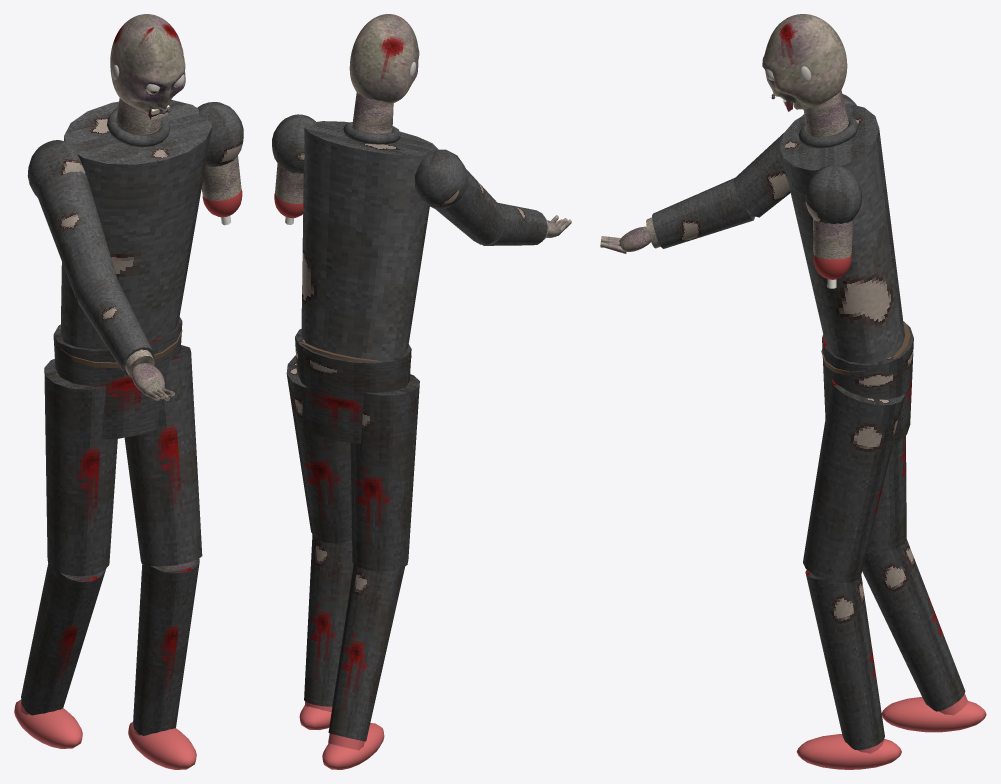
File: Zombie_024.glb
3 renders of one model, left to right at view 1: azimuth 30°, elevation 25°; view 2: azimuth 150°, elevation 25°; view 3: azimuth 270°, elevation 25°, orthographic. The views are drawn at different scales.
Parts seen in each view (by area): view 1: Zombie_024, object 10, object 4, object 5, object 3; view 2: Zombie_024, object 10, object 4; view 3: Zombie_024, object 10, object 4.
Part boxes in pixels (x1,y1,x2,y2): Zombie_024: [14, 98, 243, 769]; object 10: [110, 14, 185, 113]; object 4: [76, 275, 154, 376]; object 5: [132, 363, 164, 393]; object 3: [125, 349, 154, 378]; Zombie_024: [272, 92, 505, 769]; object 10: [349, 14, 419, 103]; object 4: [482, 203, 547, 245]; Zombie_024: [734, 90, 986, 769]; object 10: [762, 14, 847, 110]; object 4: [652, 177, 754, 248].
Size of the model in its own units: 0.5617 by 1.98 by 0.9452.
Materials: 17 (5 with a texture image).
